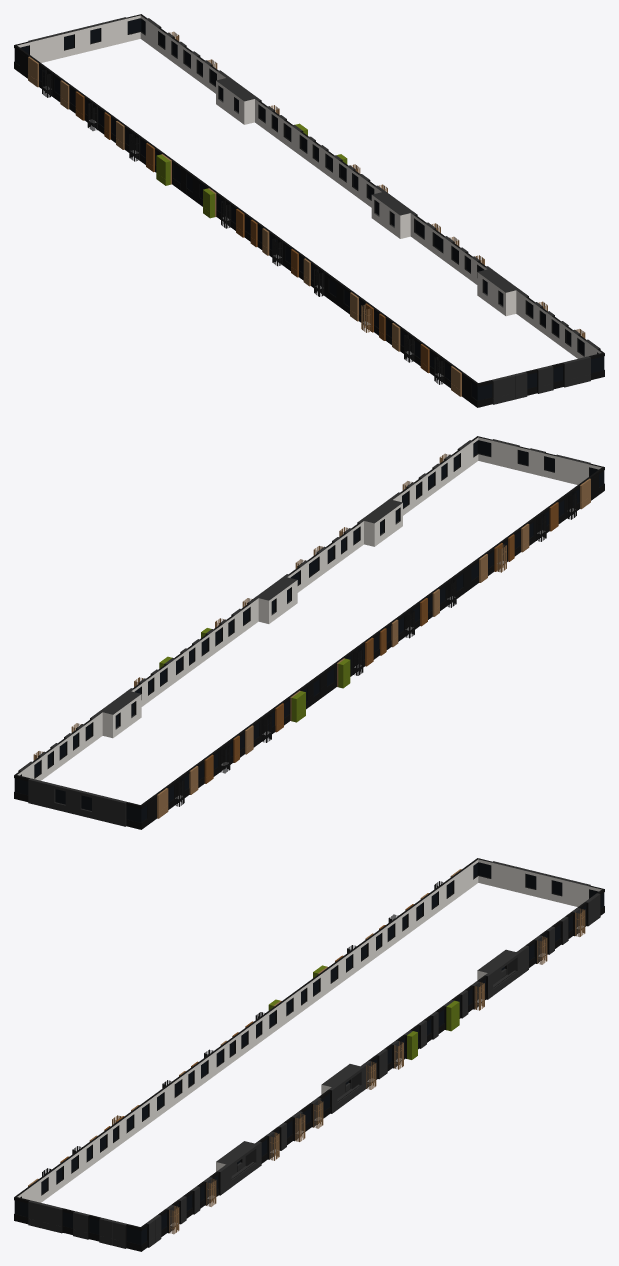
The model's file is floor_4_ext.FBX.
The picture shows the model from 3 angles, top to bottom: view 1: azimuth 30°, elevation 25°; view 2: azimuth 150°, elevation 25°; view 3: azimuth 330°, elevation 25°; orthographic projection.
Parts seen in each view (by area): view 1: floor_4_ext; view 2: floor_4_ext; view 3: floor_4_ext.
Boxes of the visible parts, <box> form: floor_4_ext: <box>14,14,604,407</box>; floor_4_ext: <box>14,436,604,829</box>; floor_4_ext: <box>14,858,604,1251</box>.
Bounding box in the file's own units: 18.75 × 3 × 108.
